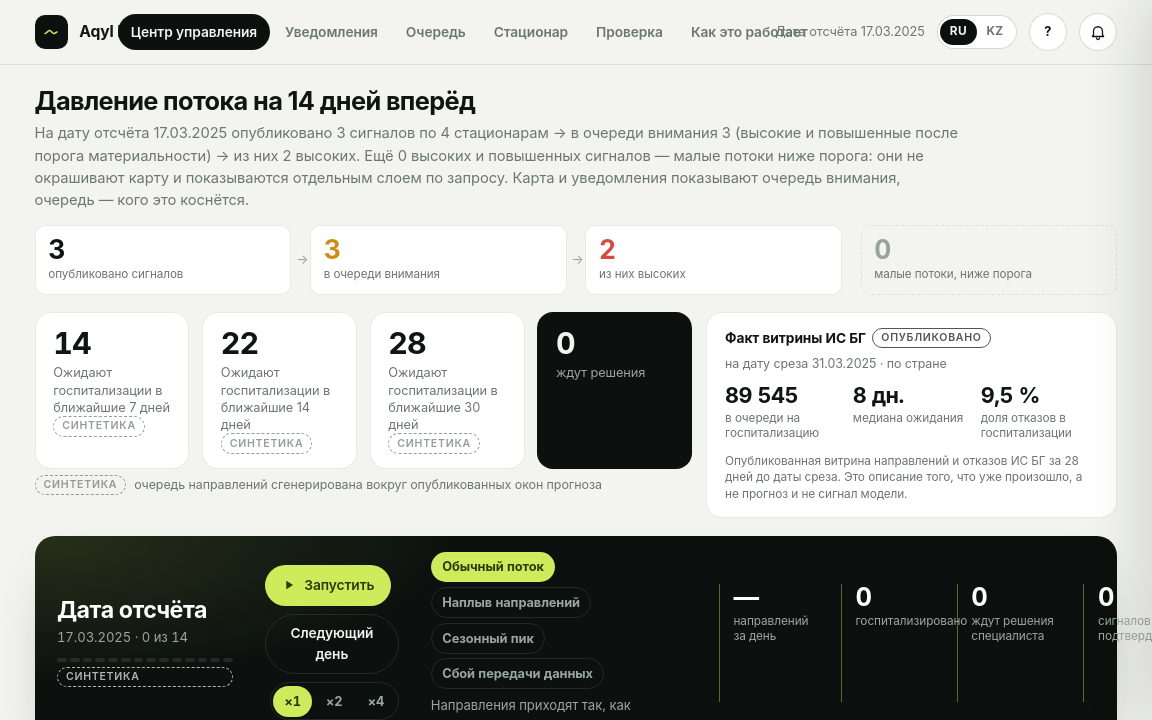
Test: Control centre › a task opens the dialog: verdict with reasons, empty assistant, facts, and the decision is recorded
Click the button "Следующий день" at (332,644), box [265,614,399,674]
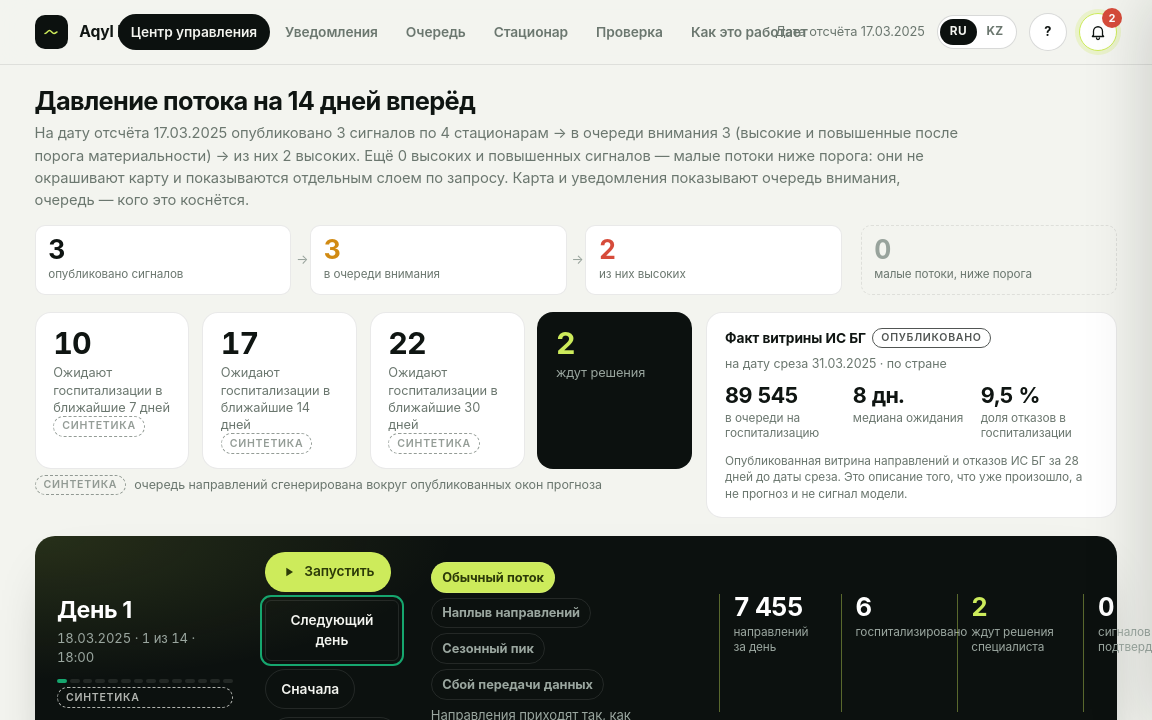
Click the button named "Задачи специалиста" at (1098,32), box [1079,13,1118,51]
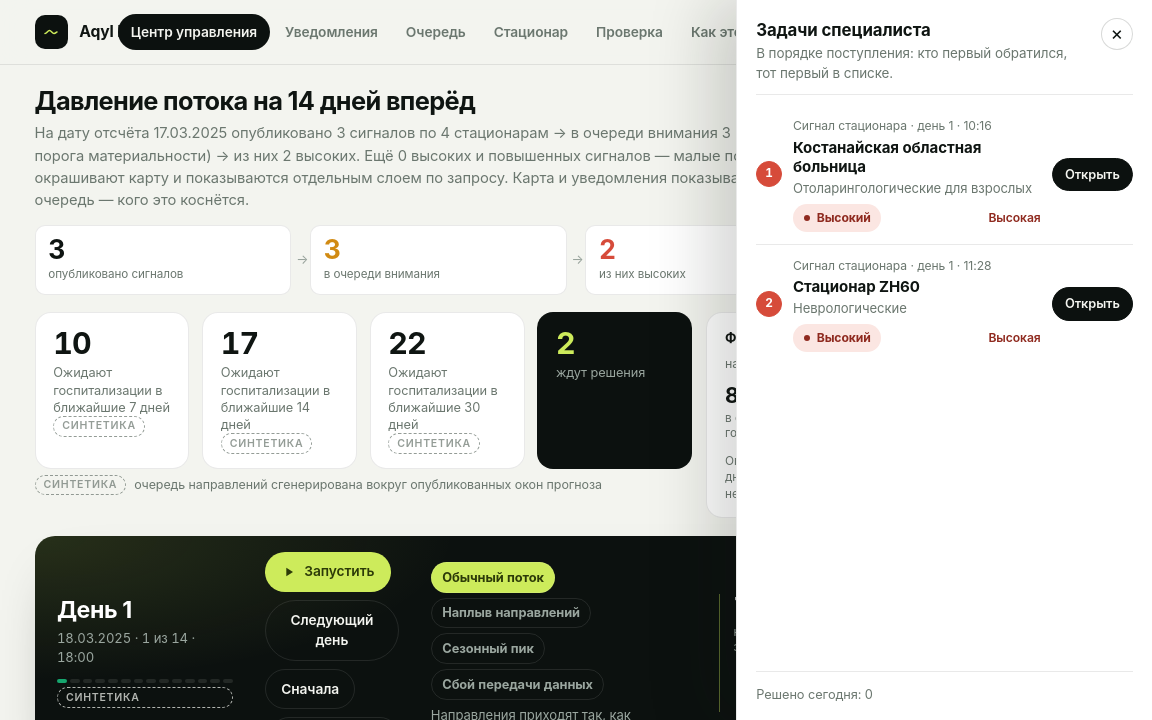
Click the 1st button "Открыть" at (1092,174), box [1052,158,1133,191]
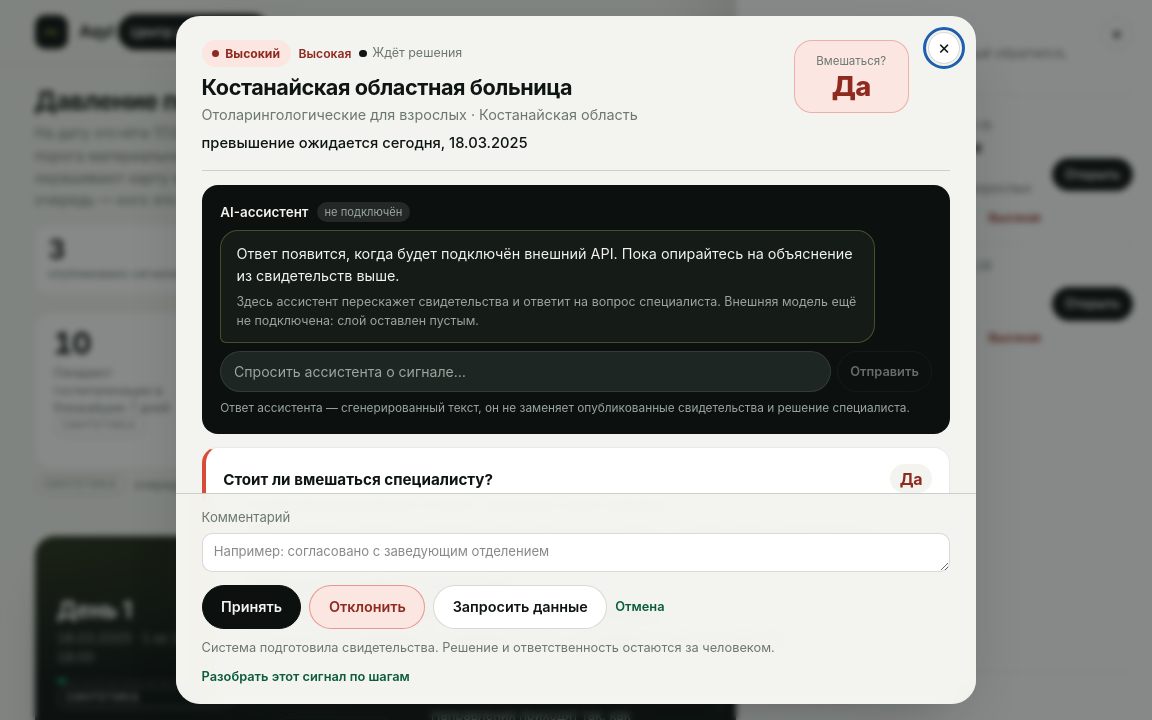
Expected: the text "Стоит ли вмешаться специалисту?" is shown, [223,468,493,491]
Expected: the text "Да" below "Вмешаться?" is shown, [832,70,871,103]
Expected: the text "не подключён" is shown, [316,202,410,222]
Type "согласовано" into the text box labelled "Комментарий" at (576,553), box [202,533,950,572]
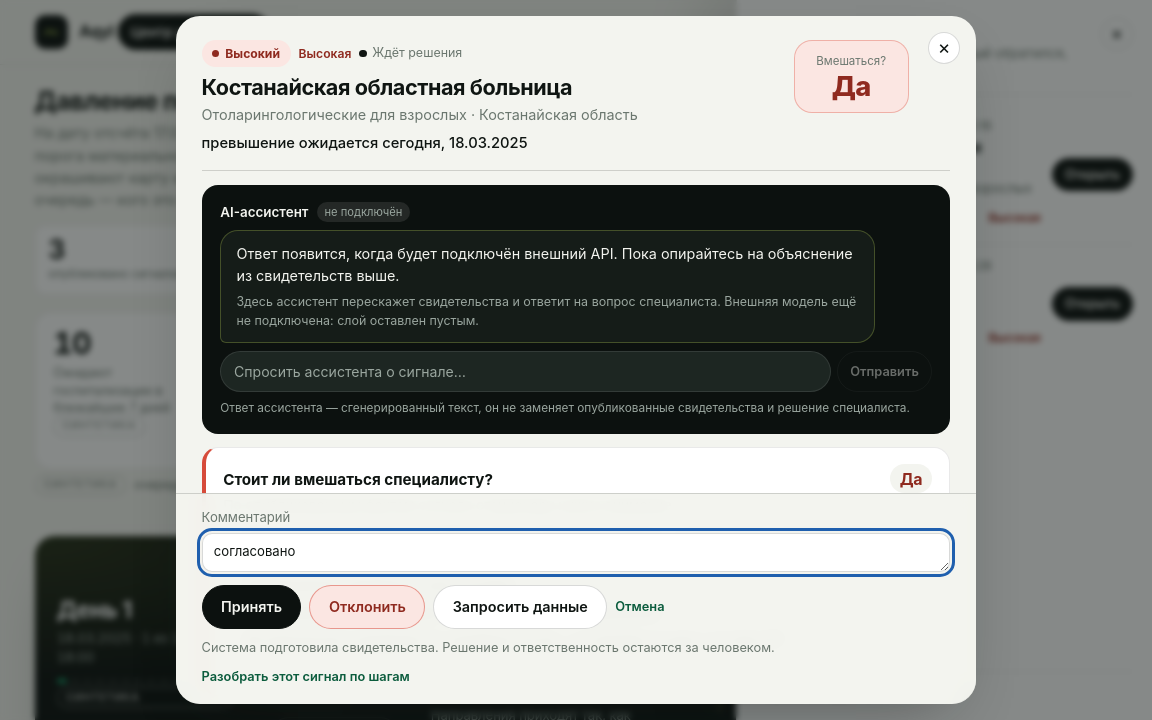
Click the button "Принять" at (252,607), box [202,585,302,630]
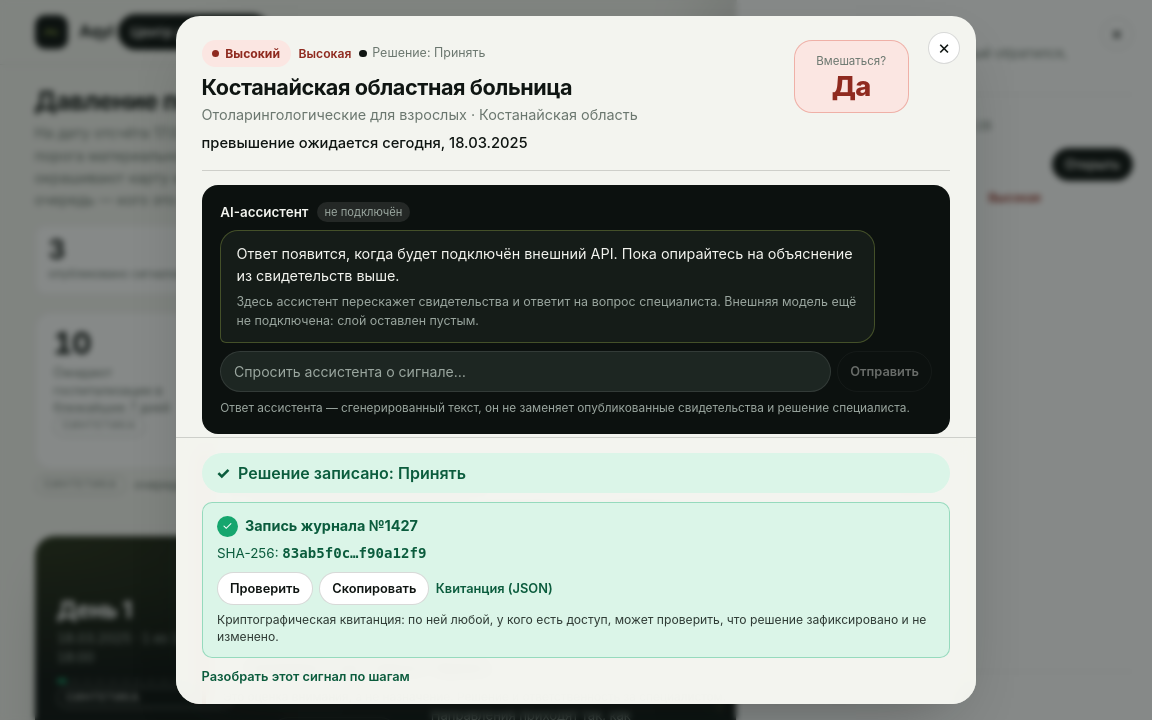
Expected: the text "Решение записано: Принять" is shown, [202,453,950,493]
Expected: the text titled "83ab5f0c" reads "83ab5f0c…f90a12f9", [282,545,426,561]
Press Escape
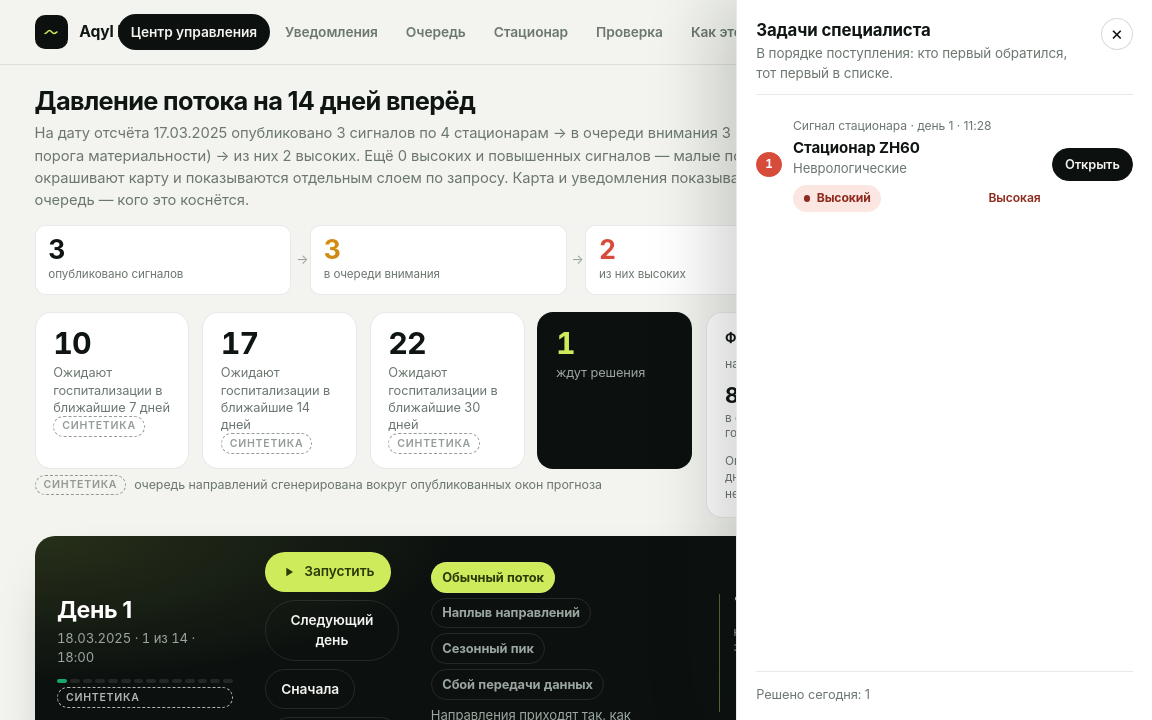
Expected: the number of buttons "Открыть" is 1, [1052,148,1133,181]
Expected: the dialog is gone
